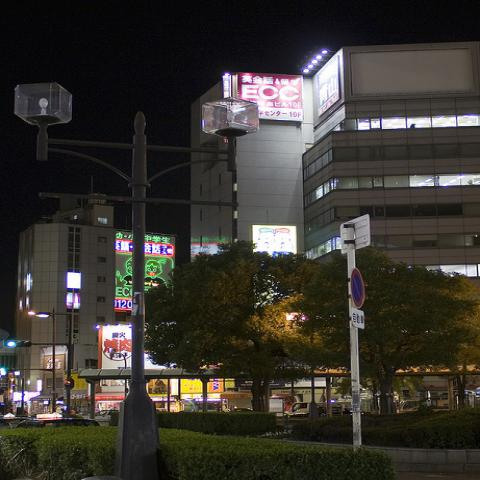car: (318, 406, 366, 417), (53, 417, 102, 427), (398, 400, 419, 414), (94, 410, 119, 421), (431, 396, 448, 408), (228, 409, 253, 412), (465, 391, 477, 395), (185, 400, 196, 404), (189, 409, 194, 412)
truck: (285, 402, 310, 416)
